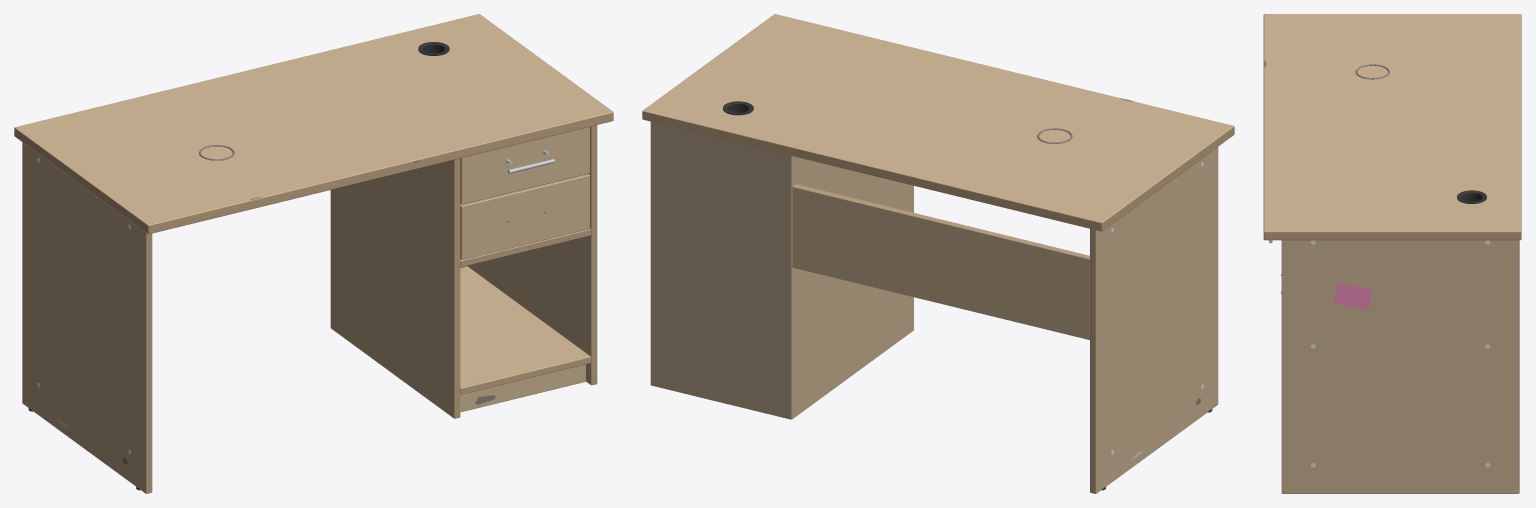
Rendered from furniture_desk.fbx.
3 views of the same model, side by side, from view 1: azimuth 30°, elevation 25°; view 2: azimuth 150°, elevation 25°; view 3: azimuth 270°, elevation 25° (orthographic). The views are drawn at different scales.
Visible parts, largest first — view 1: body, drawer_2, drawer_1; view 2: body; view 3: body.
Part boxes in pixels (x1=…): body: x1=14, y1=14, x2=613, y2=493; drawer_2: x1=460, y1=174, x2=589, y2=259; drawer_1: x1=460, y1=126, x2=589, y2=204; body: x1=642, y1=14, x2=1234, y2=493; body: x1=1263, y1=14, x2=1521, y2=493.
Size of the model in its own units: 1.3 by 0.746 by 0.6506.
